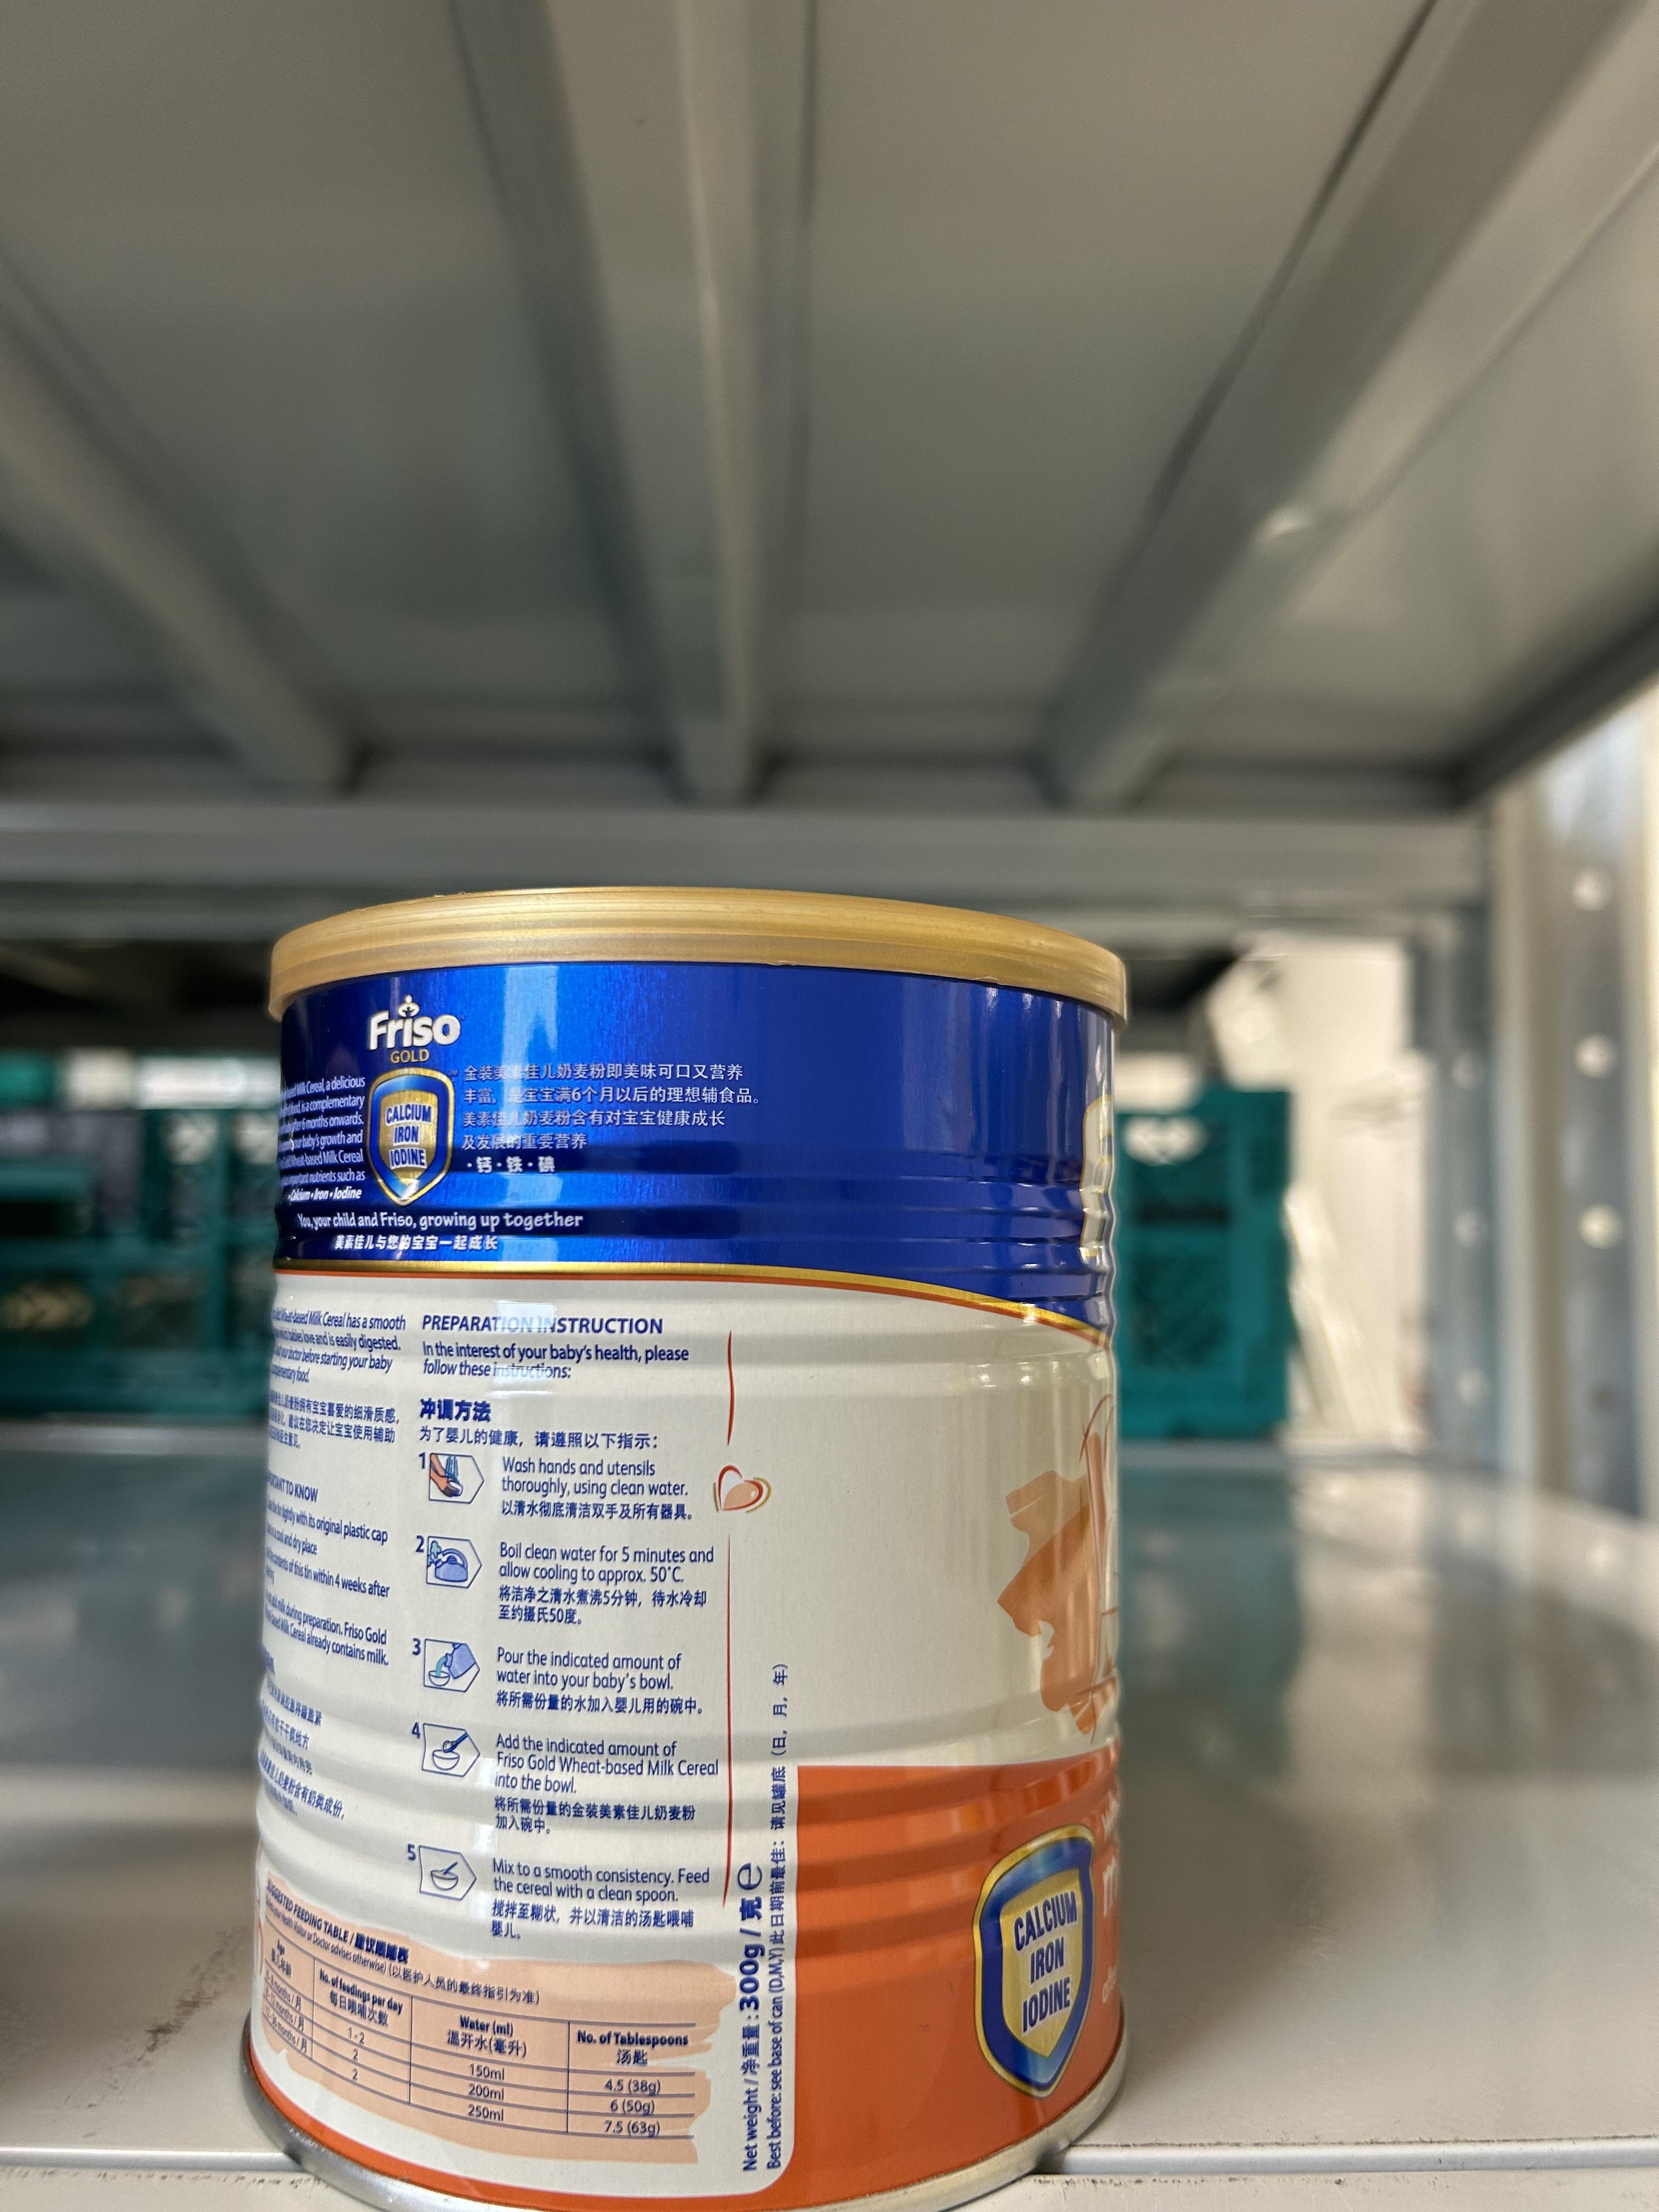object_name: (281, 954, 1105, 2179)
